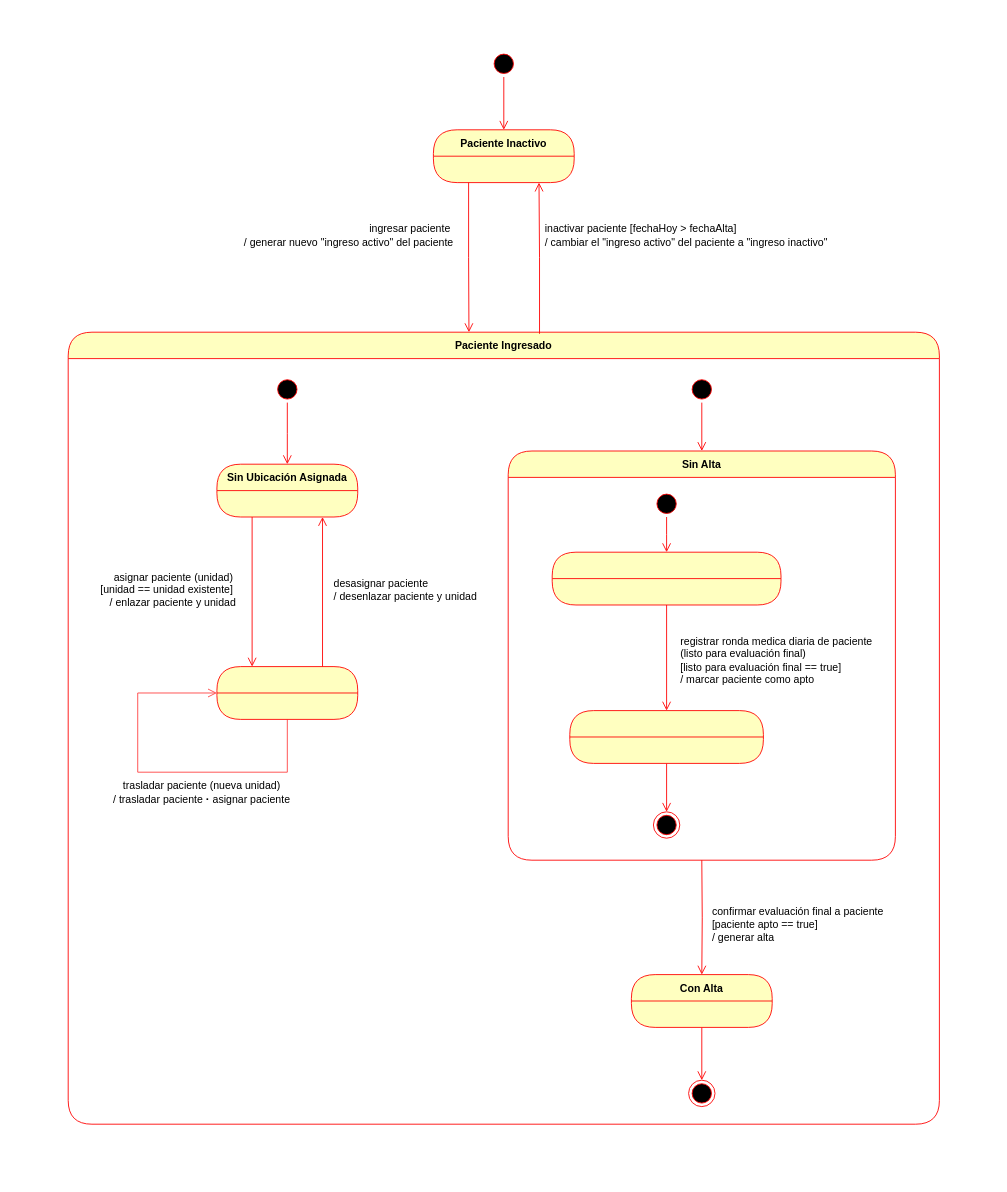
Some shapes in this 1007 by 1192 pixel diagram are drawn without their labels. The box of each missing label's shape, as (x1, y1, x2, y2) in pixels:
Con Ubicación Asignada: (216, 666, 358, 719)
No preparado para Evaluación Final: (551, 551, 781, 605)
Preparado para Evaluación Final: (569, 710, 763, 763)
